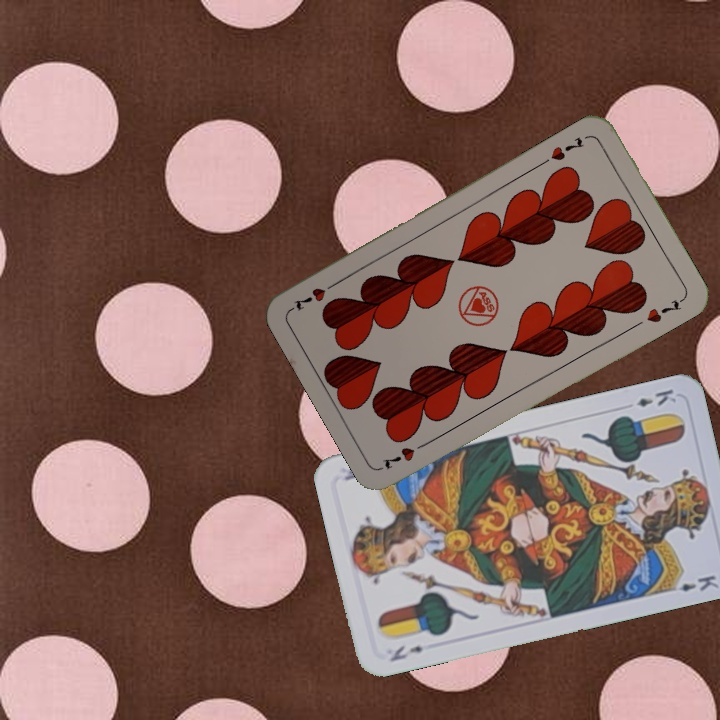EK: (632, 385, 679, 410), (386, 641, 426, 665)
H7: (379, 437, 433, 472), (547, 133, 587, 164)
